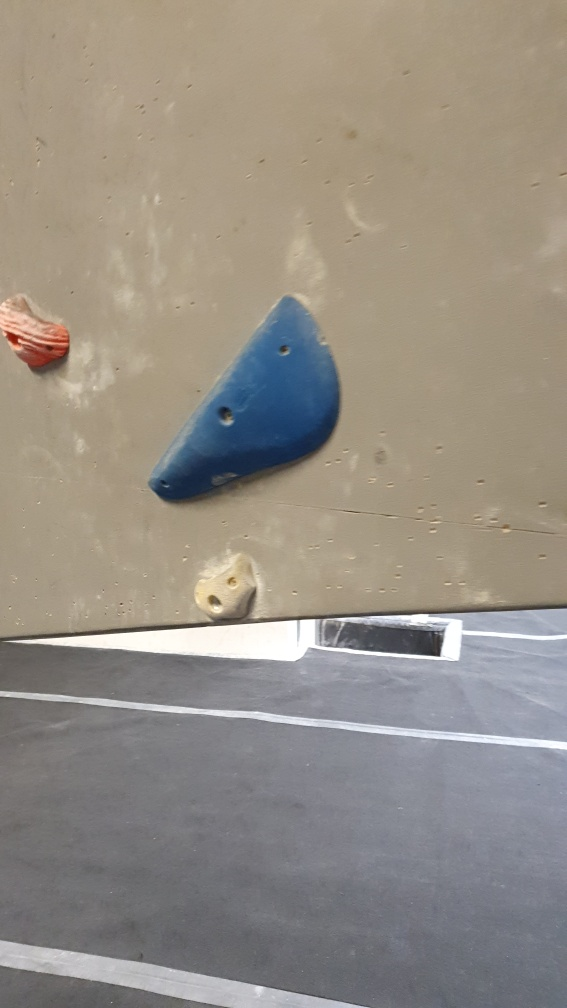Jug: (1, 294, 71, 374)
